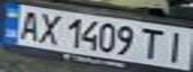0: (97, 20, 118, 54)
1: (60, 16, 84, 48)
4: (78, 18, 100, 52)
9: (115, 22, 139, 56)
A: (12, 8, 45, 42)
I: (160, 29, 193, 64)
T: (136, 25, 172, 61)
X: (33, 10, 66, 46)
